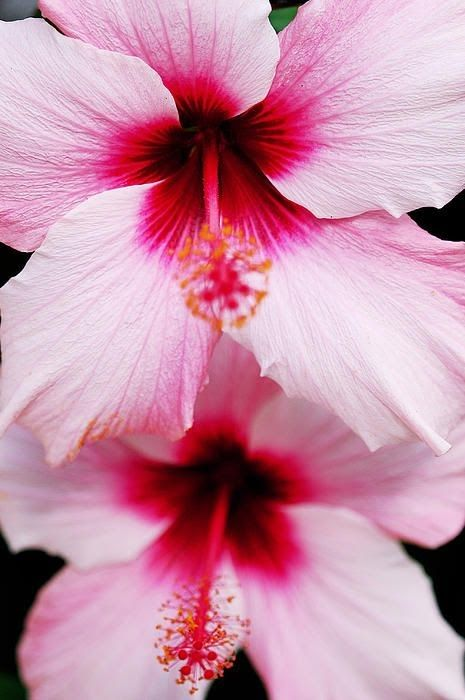Hibiscus: (1, 1, 465, 459), (1, 444, 464, 700)
